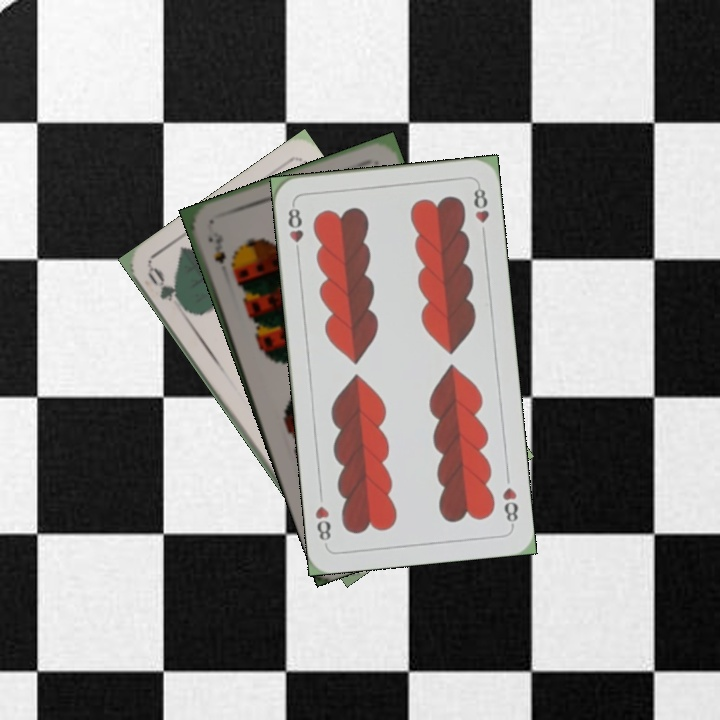GO: (143, 264, 191, 314)
H8: (283, 200, 306, 259), (498, 483, 521, 529)
S9: (204, 227, 228, 267)
